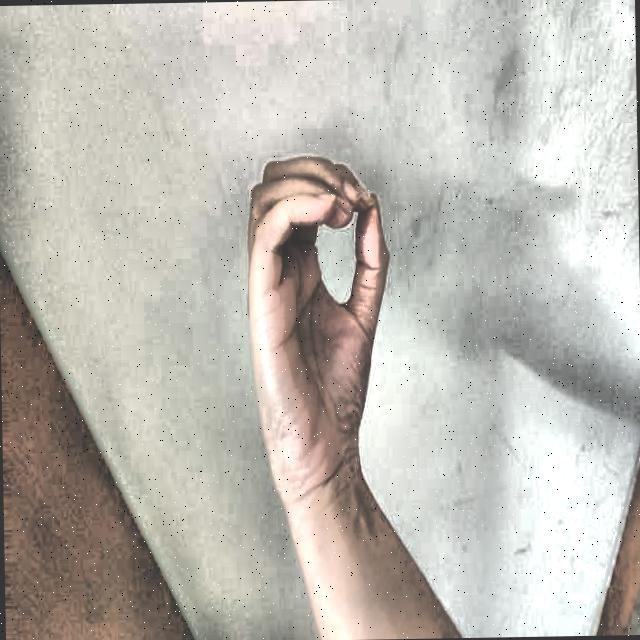O: (216, 128, 416, 515)
